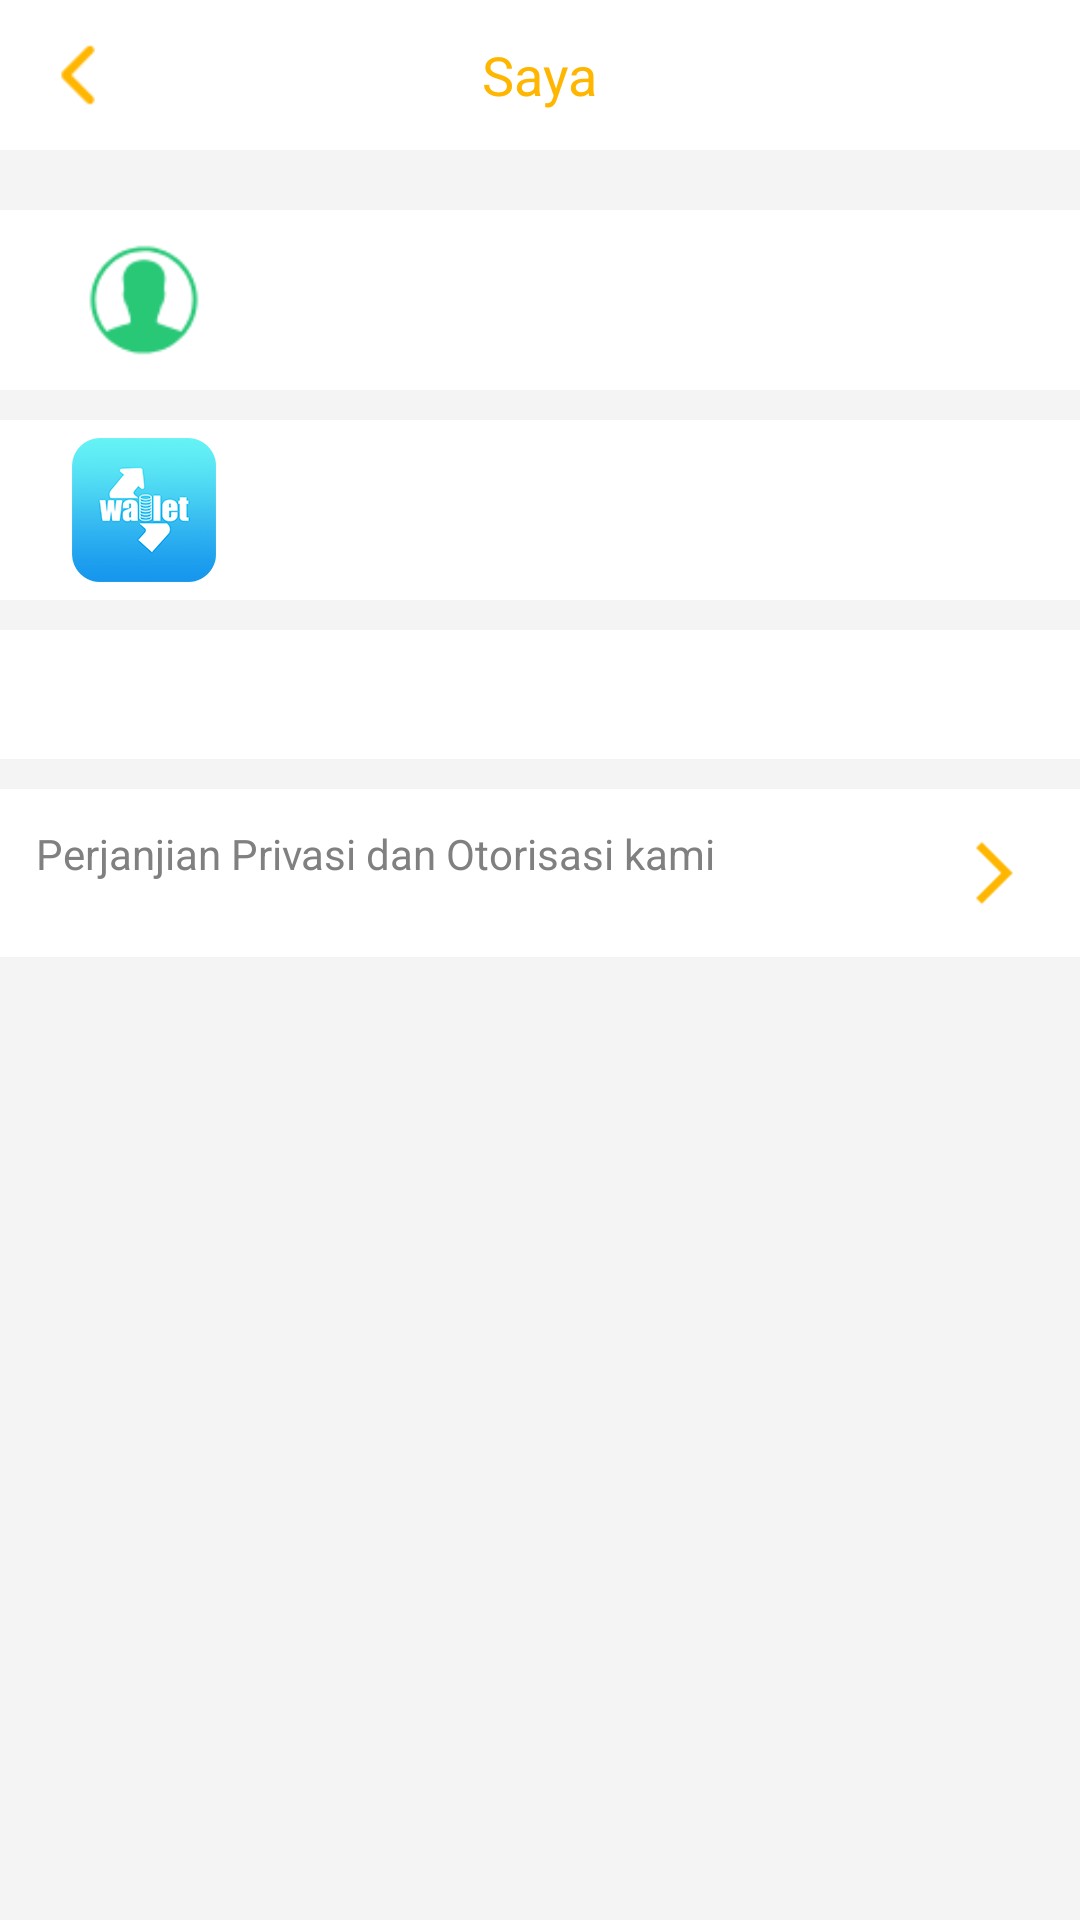

Where icons sit on this 1080x1920 app screen, as (x1, y1, x2, y2):
back: (61, 45, 95, 105)
head: (89, 245, 199, 355)
